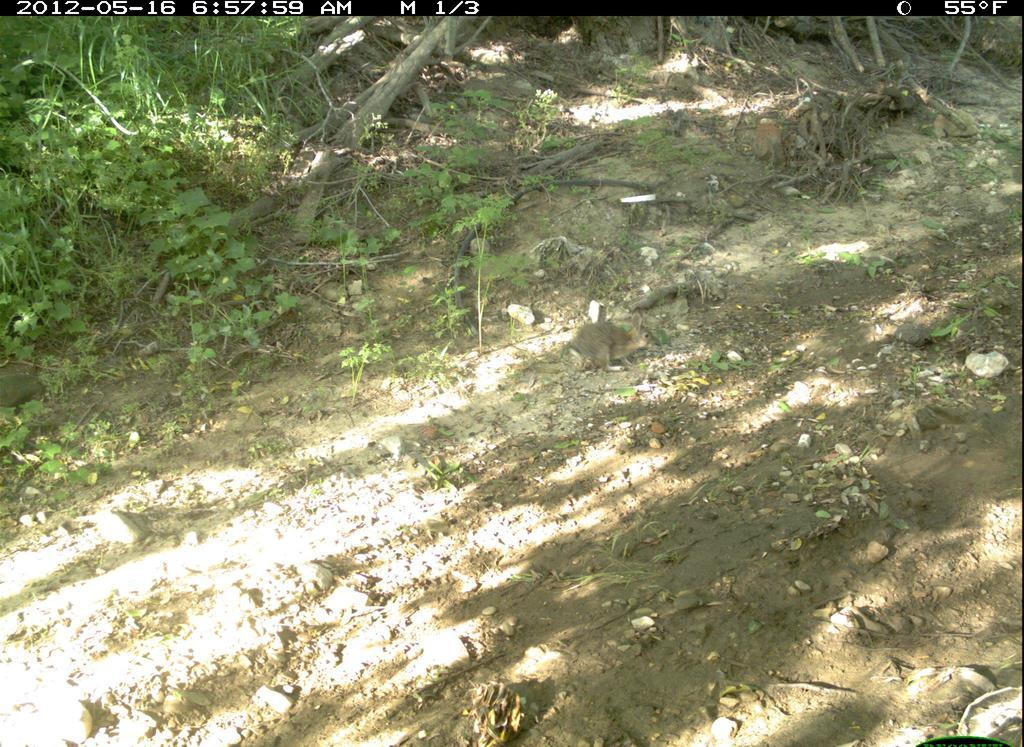rabbit: (555, 303, 661, 379)
